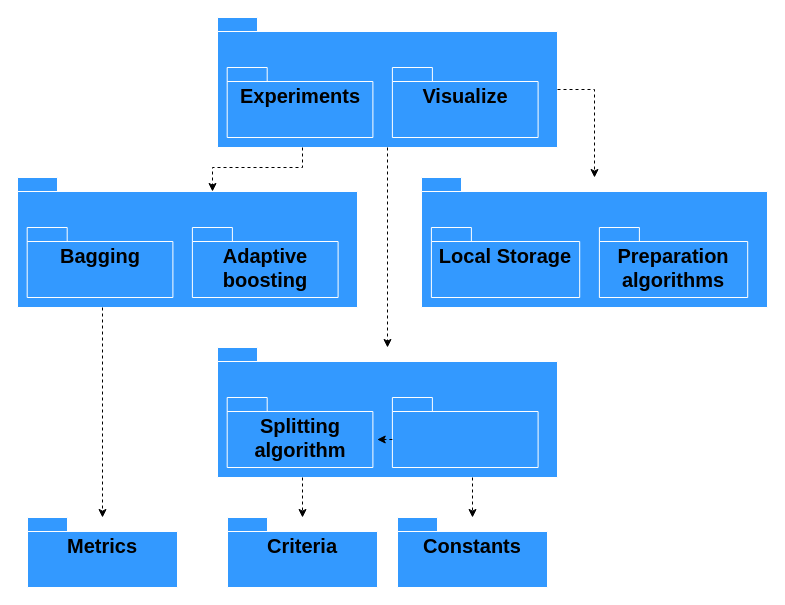
Some shapes in this 785 by 605 pixel diagram are drawn without their labels. Here are the shapes that lost their labels. From the top down, the box of each, then its label:
(216, 16, 558, 148): Presentation Layer
(16, 176, 358, 308): Ensemble Model
(420, 176, 768, 308): Data Layer
(216, 346, 558, 478): Tree Model
(391, 396, 538, 468): Node construnction
